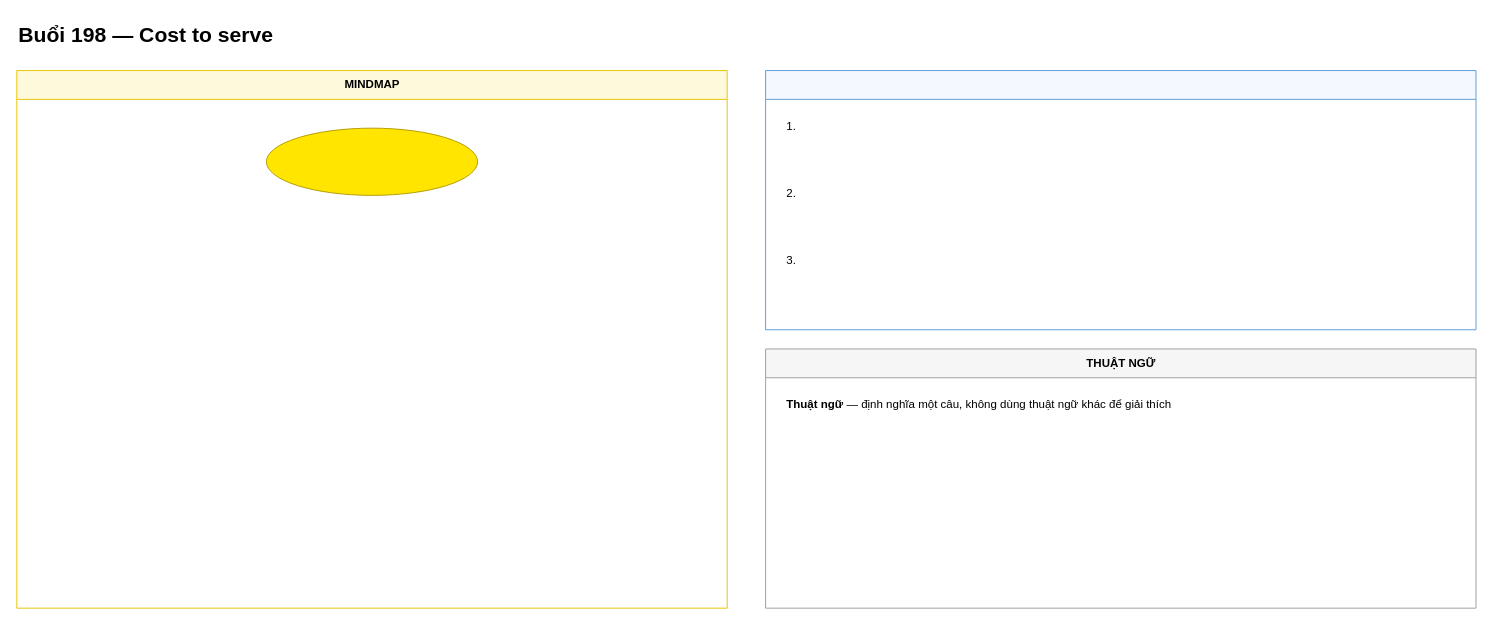
Some shapes in this 1493 by 625 pixel diagram are drawn without their labels. The box of each missing label's shape, as (x1, y1, x2, y2) in pixels:
Cost to serve: (265, 127, 478, 195)
KEY TAKEAWAY — ba điều phải nhớ: (765, 70, 1476, 330)
